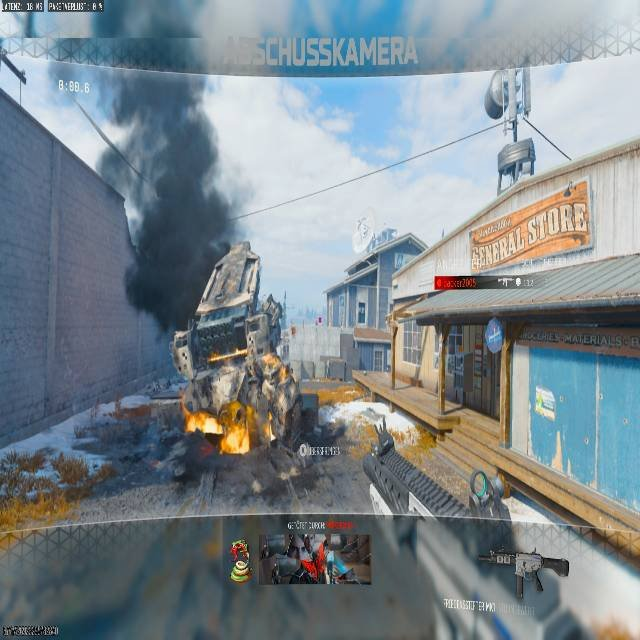head: (212, 240, 260, 297)
player: (175, 242, 296, 458)
